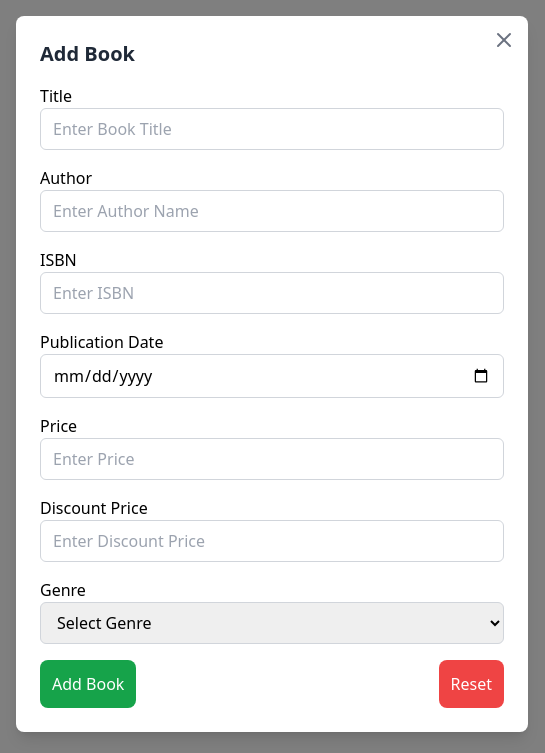
Test: AddBookModal › resets the form values when the reset button is clicked
Type "Test Book" into the field with test id "title" at (272, 129), box [40,108,504,150]
Type "Test Author" into the field with test id "author" at (272, 211), box [40,190,504,232]
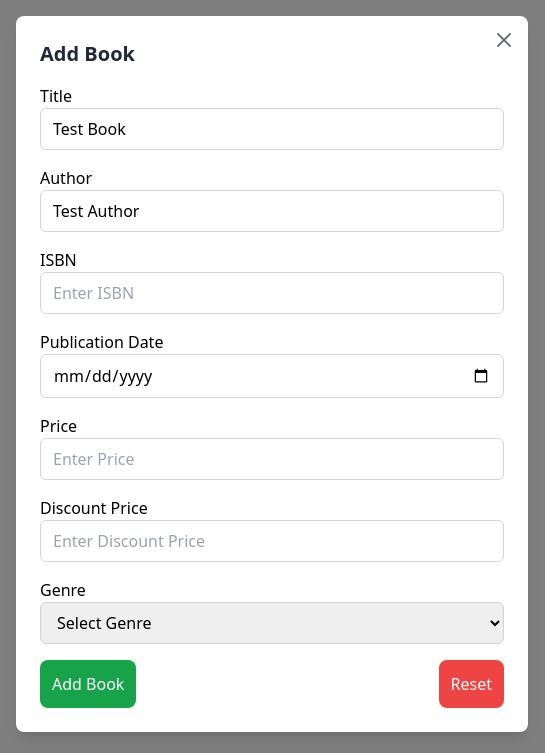
Type "1234567890" into the field with test id "isbn" at (272, 293), box [40,272,504,314]
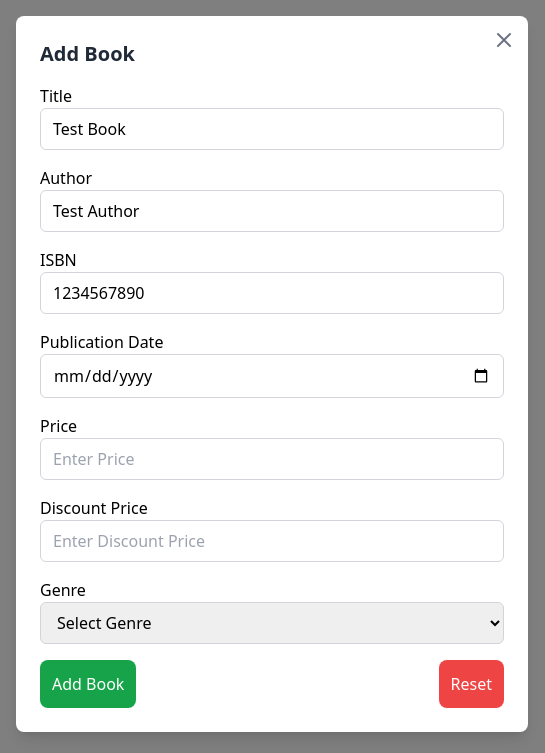
Type "20" into the number field with test id "price" at (272, 459), box [40,438,504,480]
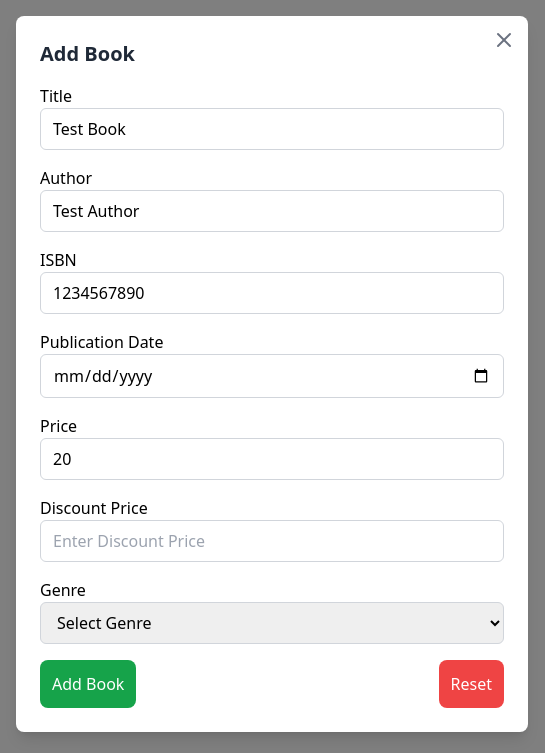
Type "15" into the number field with test id "discountPrice" at (272, 541), box [40,520,504,562]
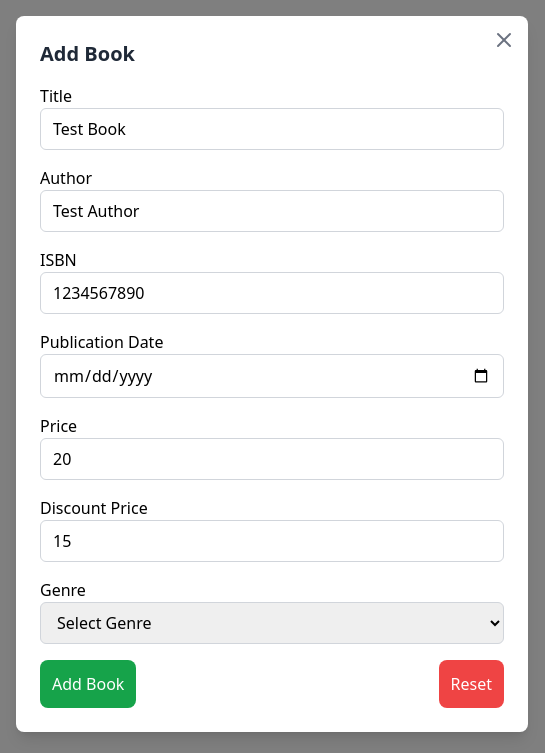
Select "Fiction" in the dropdown with test id "genre" at (272, 623), box [40,602,504,644]
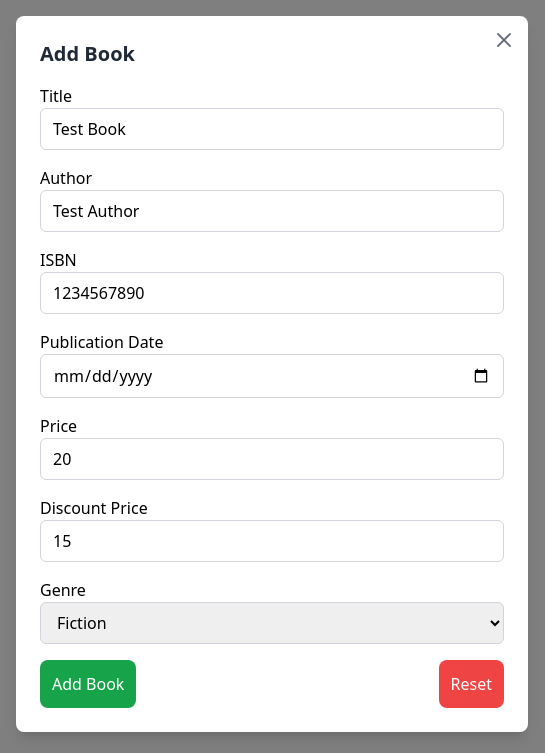
Click the button "Reset" at (471, 684), box [438,660,504,708]
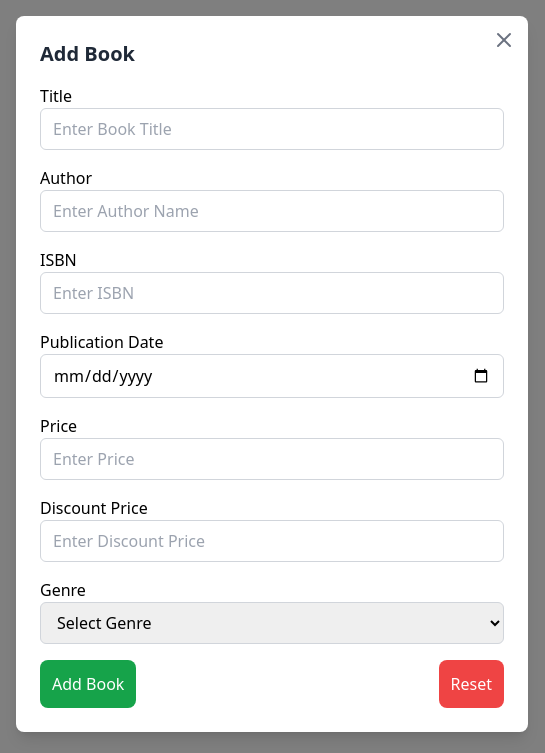
Now the field with test id "title" is empty, box [40,108,504,150]
Now the field with test id "author" is empty, box [40,190,504,232]
Now the field with test id "isbn" is empty, box [40,272,504,314]
